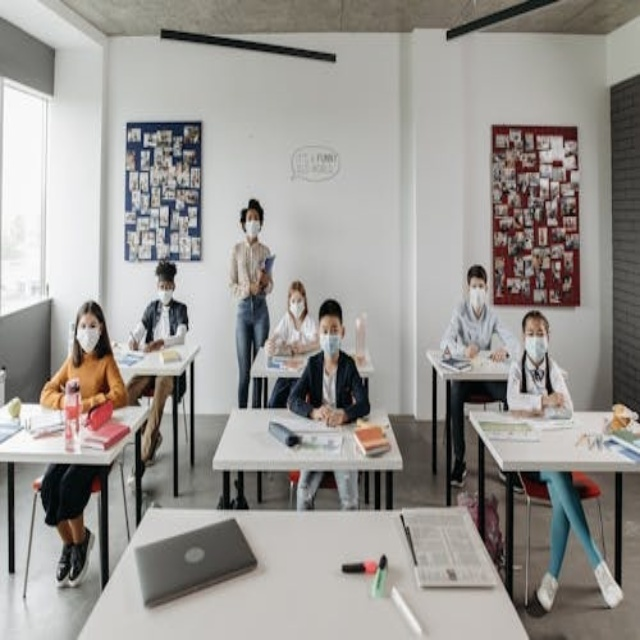Mascara: (76, 324, 101, 354), (524, 335, 547, 362), (319, 333, 341, 358), (469, 287, 486, 311), (158, 288, 174, 306), (289, 301, 304, 320), (245, 220, 261, 237)
Sin_gafas: (76, 309, 96, 326), (320, 322, 342, 335), (526, 324, 545, 333), (470, 274, 484, 286), (289, 291, 302, 303), (244, 211, 261, 220), (160, 278, 173, 289)
Sin_guantes: (311, 400, 347, 431), (541, 385, 572, 416)
